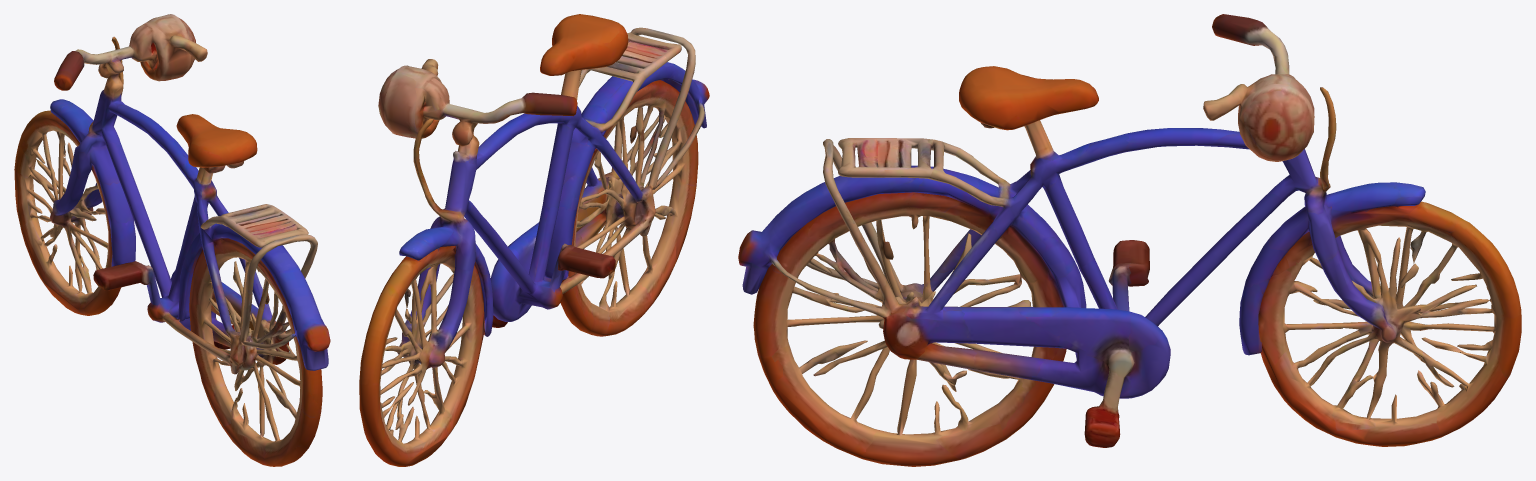
Rendered from bicycle.glb.
3 renders of one model, left to right at view 1: azimuth 30°, elevation 25°; view 2: azimuth 150°, elevation 25°; view 3: azimuth 270°, elevation 25°, orthographic. The views are drawn at different scales.
Parts seen in each view (by area): view 1: tripo_node_1d3106ca-5344-4b13-9e3f-1cc3f0256c51; view 2: tripo_node_1d3106ca-5344-4b13-9e3f-1cc3f0256c51; view 3: tripo_node_1d3106ca-5344-4b13-9e3f-1cc3f0256c51.
Part boxes in pixels (<box>): tripo_node_1d3106ca-5344-4b13-9e3f-1cc3f0256c51: <box>14,14,330,466</box>; tripo_node_1d3106ca-5344-4b13-9e3f-1cc3f0256c51: <box>359,14,709,466</box>; tripo_node_1d3106ca-5344-4b13-9e3f-1cc3f0256c51: <box>738,14,1521,466</box>.
Size of the model in its own units: 0.2786 by 0.5591 by 0.9486.
Materials: 1 (1 with a texture image).
